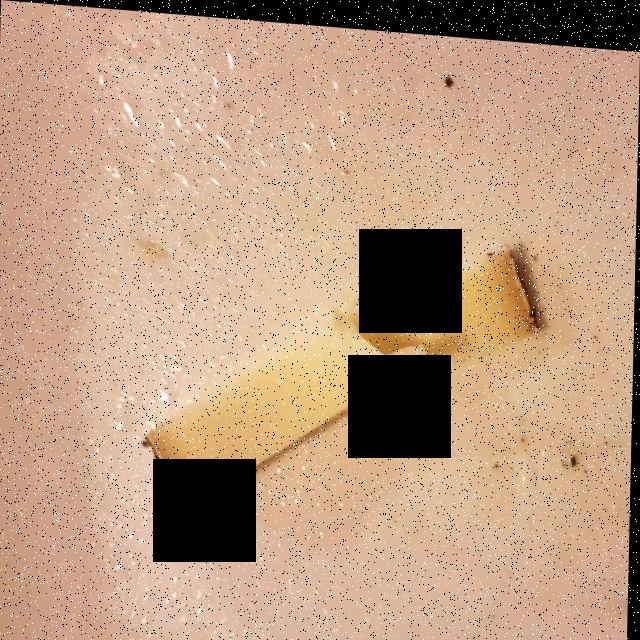gruyere: (141, 231, 542, 532)
